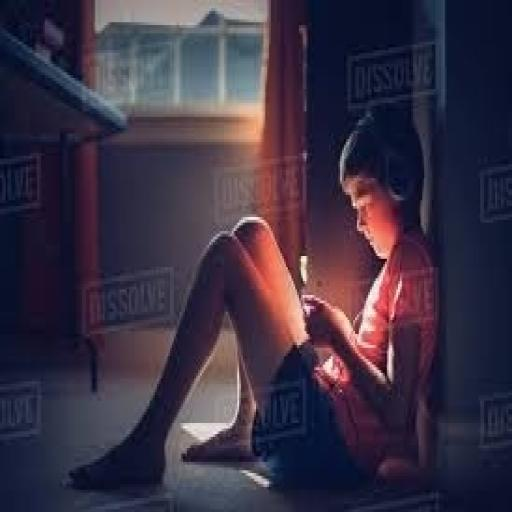listening_to_music: (62, 103, 443, 501)
